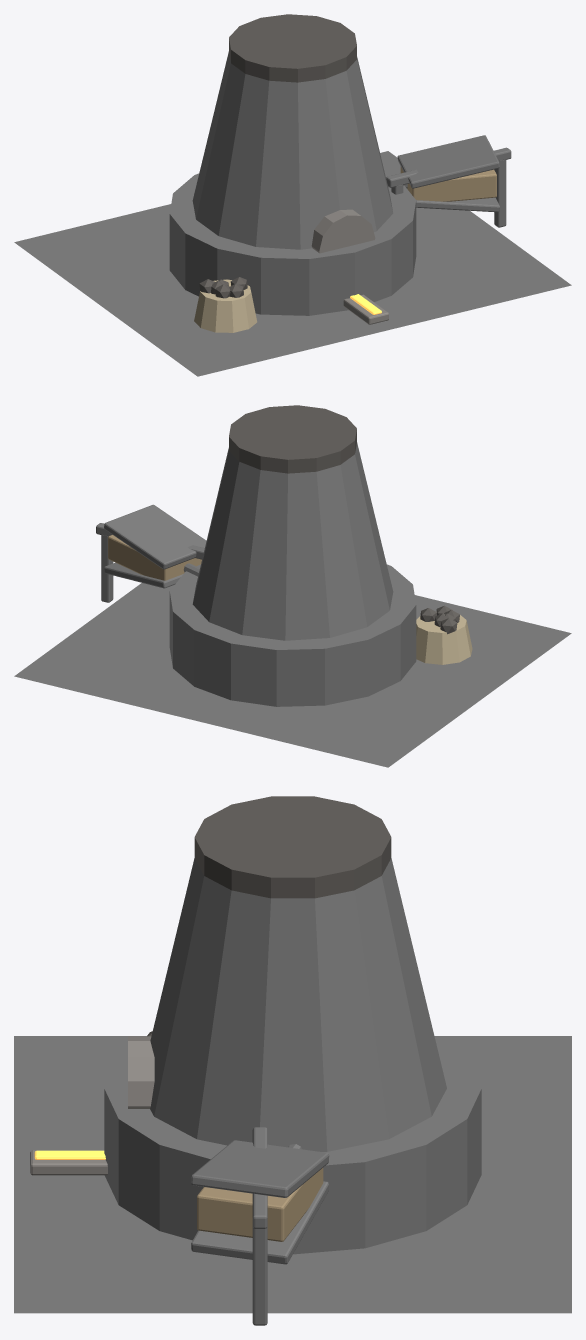
The model's file is smelter.glb.
3 views of the same model, one above another, from view 1: azimuth 30°, elevation 25°; view 2: azimuth 150°, elevation 25°; view 3: azimuth 270°, elevation 25° (orthographic). The views are drawn at different scales.
Visible parts, largest first — view 1: ContactShadow, shaft, base, shaftTop, belTop, basket, mouthRing, belMid, belBot, belPost, tap, belBeam; view 2: ContactShadow, shaft, base, shaftTop, belTop, basket, belMid, belBot, belPost; view 3: ContactShadow, shaft, base, shaftTop, belTop, belMid, belBot, mouthRing, belPost, tap, belBeam, tapGlow.
Part boxes in pixels (x1=…): ContactShadow: x1=14, y1=151, x2=571, y2=376; shaft: x1=192, y1=51, x2=393, y2=249; base: x1=169, y1=173, x2=416, y2=315; shaftTop: x1=229, y1=14, x2=356, y2=82; belTop: x1=397, y1=135, x2=499, y2=188; basket: x1=194, y1=279, x2=257, y2=332; mouthRing: x1=311, y1=209, x2=375, y2=253; belMid: x1=400, y1=166, x2=496, y2=201; belBot: x1=416, y1=197, x2=499, y2=212; belPost: x1=494, y1=159, x2=506, y2=227; tap: x1=343, y1=294, x2=388, y2=324; belBeam: x1=386, y1=147, x2=511, y2=187; ContactShadow: x1=14, y1=583, x2=571, y2=767; shaft: x1=192, y1=442, x2=393, y2=640; base: x1=169, y1=564, x2=416, y2=706; shaftTop: x1=229, y1=405, x2=356, y2=473; belTop: x1=104, y1=504, x2=206, y2=569; basket: x1=416, y1=615, x2=472, y2=664; belMid: x1=108, y1=535, x2=201, y2=580; belBot: x1=104, y1=562, x2=183, y2=588; belPost: x1=101, y1=534, x2=113, y2=602; ContactShadow: x1=14, y1=1036, x2=571, y2=1313; shaft: x1=150, y1=858, x2=446, y2=1151; base: x1=104, y1=1037, x2=481, y2=1254; shaftTop: x1=194, y1=796, x2=391, y2=898; belTop: x1=191, y1=1140, x2=329, y2=1197; belMid: x1=197, y1=1168, x2=323, y2=1241; belBot: x1=191, y1=1181, x2=329, y2=1264; mouthRing: x1=128, y1=1036, x2=154, y2=1108; belPost: x1=252, y1=1227, x2=267, y2=1325; tap: x1=30, y1=1150, x2=107, y2=1175; belBeam: x1=252, y1=1127, x2=267, y2=1228; tapGlow: x1=34, y1=1150, x2=105, y2=1159.
Size of the model in its own units: 4.2 by 2.29 by 3.4.
14 materials, 6 textured.
